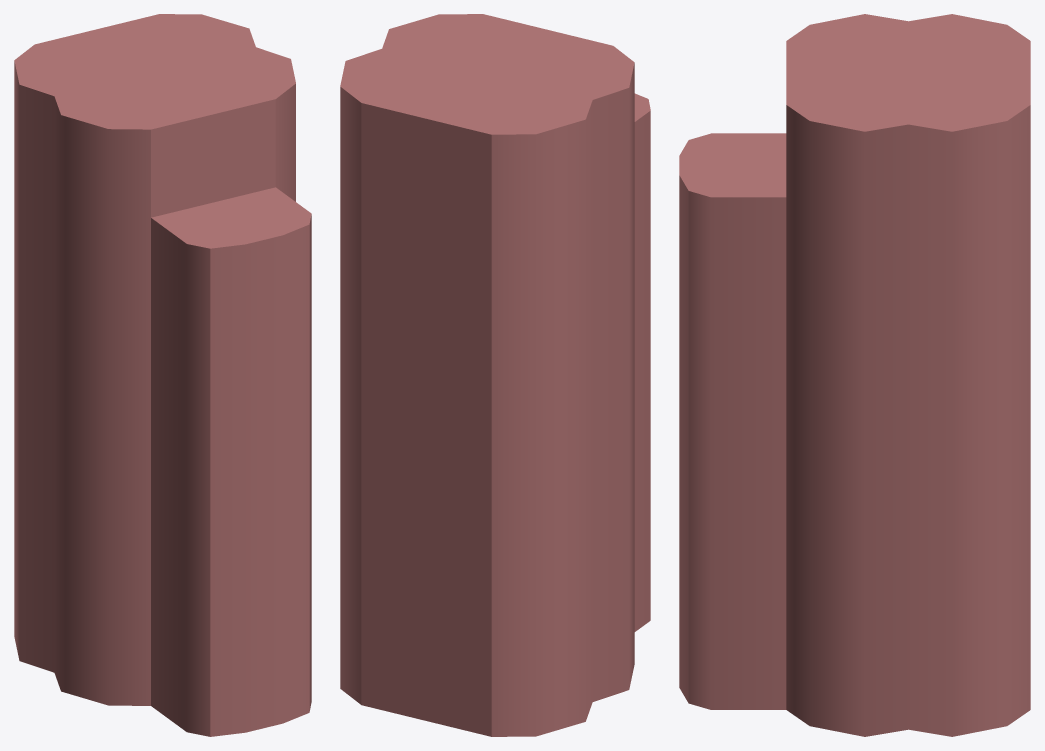
File: building5.fbx
The picture shows the model from 3 angles, left to right: view 1: azimuth 30°, elevation 25°; view 2: azimuth 150°, elevation 25°; view 3: azimuth 270°, elevation 25°; orthographic projection. The views are drawn at different scales.
Visible parts, largest first — view 1: sm_cylin_build; view 2: sm_cylin_build; view 3: sm_cylin_build.
Part boxes in pixels (<box>): sm_cylin_build: <box>14,14,311,736</box>; sm_cylin_build: <box>340,14,650,736</box>; sm_cylin_build: <box>679,14,1030,736</box>.
Size of the model in its own units: 10.85 by 26 by 13.68.
